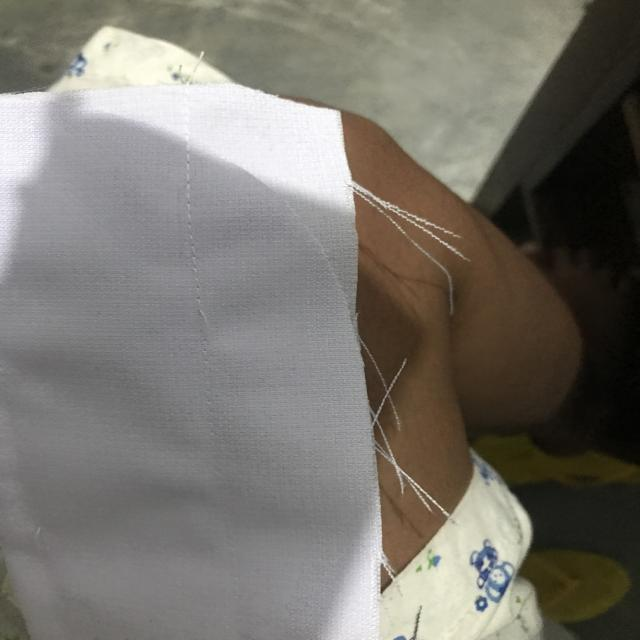good: (183, 161, 196, 247)
skip: (176, 278, 227, 360)
